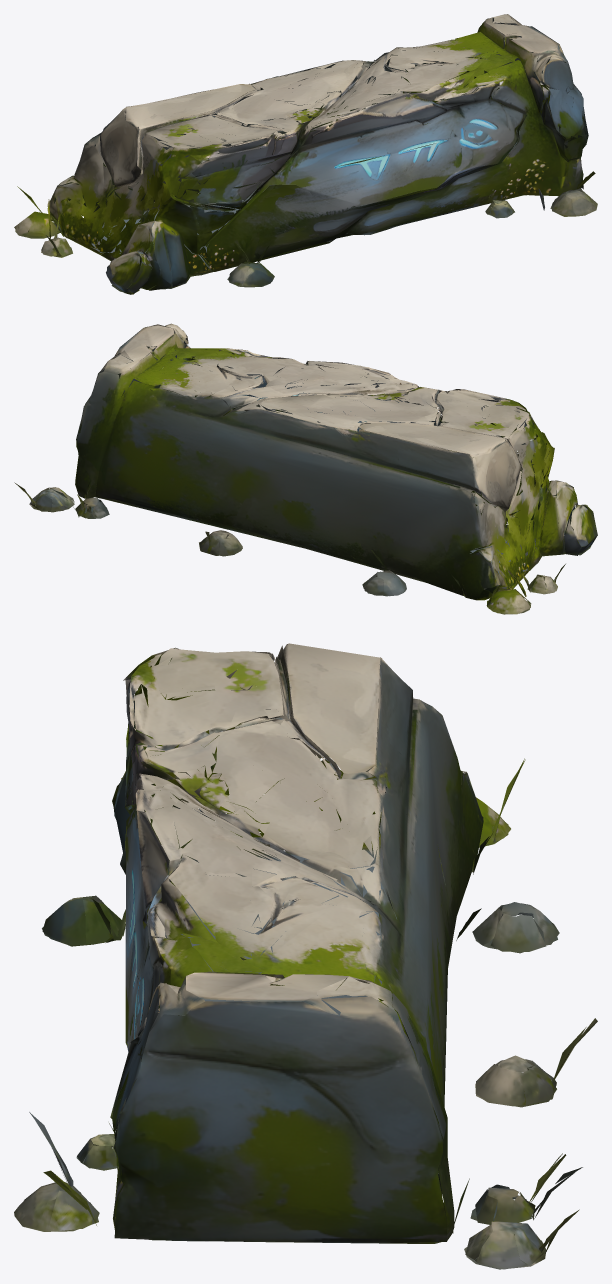
The model's file is stone_fallen_hy.glb.
3 views of the same model, one above another, from view 1: azimuth 30°, elevation 25°; view 2: azimuth 150°, elevation 25°; view 3: azimuth 270°, elevation 25° (orthographic). The views are drawn at different scales.
Visible parts, largest first — view 1: stone_fallen_hy; view 2: stone_fallen_hy; view 3: stone_fallen_hy.
Boxes of the visible parts, left/top/right/bottom form: stone_fallen_hy: left=14, top=14, right=597, bottom=294; stone_fallen_hy: left=14, top=323, right=597, bottom=614; stone_fallen_hy: left=14, top=643, right=597, bottom=1269.
Size of the model in its own units: 3.68 by 0.9024 by 1.96.
Materials: 1 (1 with a texture image).
